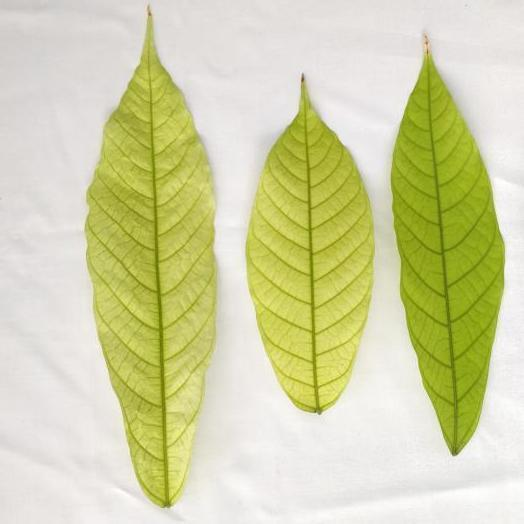Iron: (87, 9, 214, 506), (391, 38, 504, 454), (247, 76, 374, 413)
